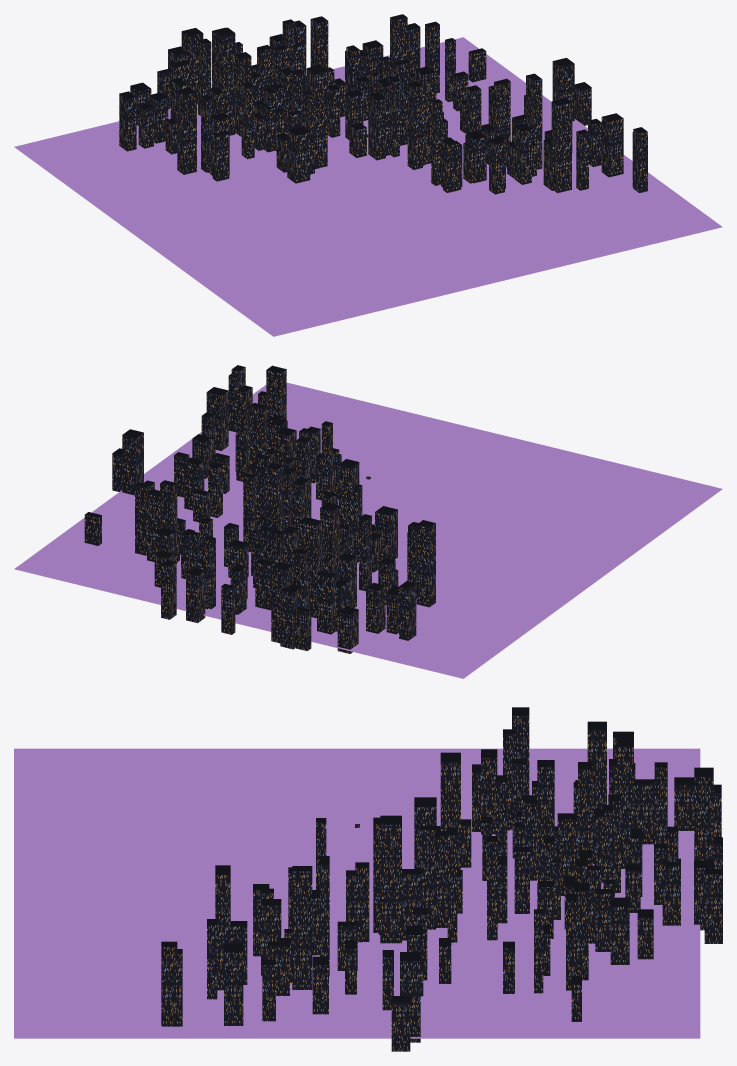
The model's file is lounge.glb.
3 views of the same model, one above another, from view 1: azimuth 30°, elevation 25°; view 2: azimuth 150°, elevation 25°; view 3: azimuth 270°, elevation 25° (orthographic). The views are drawn at different scales.
Parts seen in each view (by area): view 1: Lounge_City_Haze, Lounge_Towers; view 2: Lounge_City_Haze, Lounge_Towers; view 3: Lounge_City_Haze, Lounge_Towers.
Boxes of the visible parts, x1,y1,x2,y2 form: Lounge_City_Haze: (14,37,722,336); Lounge_Towers: (119,14,647,194); Lounge_City_Haze: (14,382,722,678); Lounge_Towers: (84,365,435,653); Lounge_City_Haze: (14,748,700,1038); Lounge_Towers: (161,707,722,1051).
Size of the model in its own units: 1230 by 290 by 1240.
Materials: 19 (8 with a texture image).
